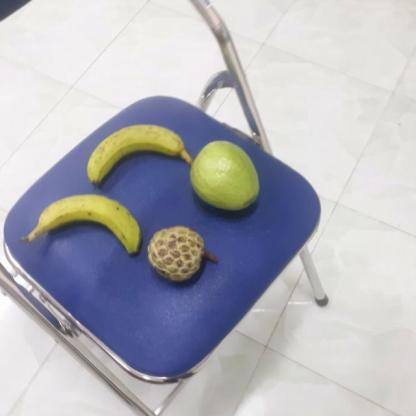annona: (149, 226, 216, 283)
banana: (88, 124, 191, 192), (37, 197, 148, 256)
